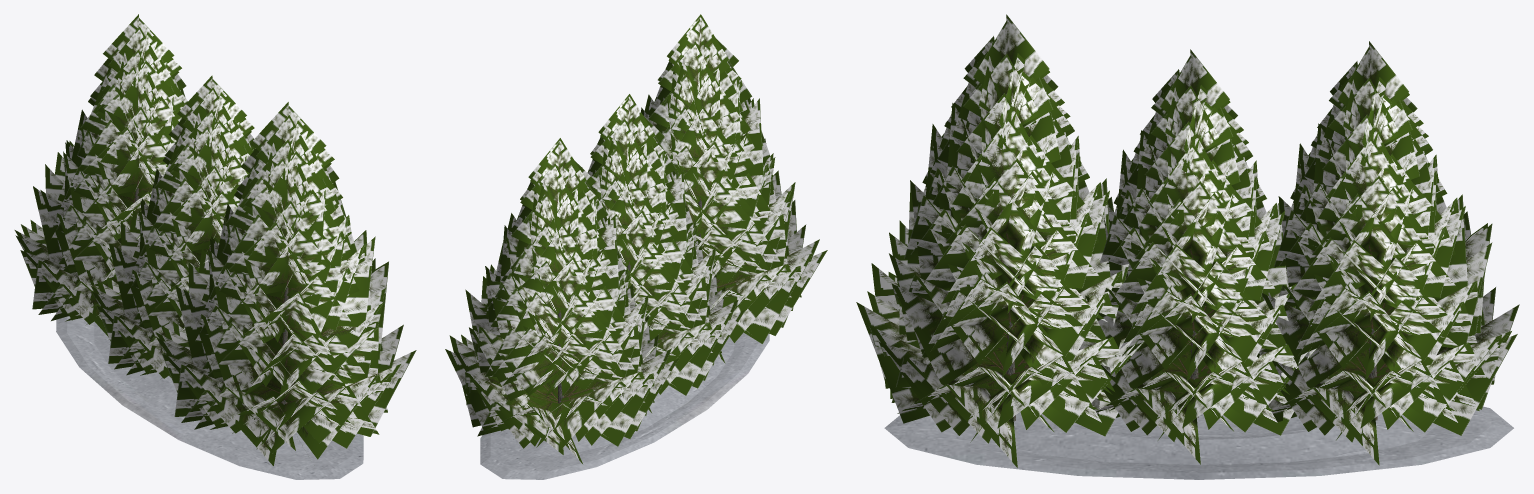
Rendered from track5Structure2.glb.
3 views of the same model, side by side, from view 1: azimuth 30°, elevation 25°; view 2: azimuth 150°, elevation 25°; view 3: azimuth 270°, elevation 25° (orthographic). The views are drawn at different scales.
Visible parts, largest first — view 1: fir.005; view 2: fir.005; view 3: fir.005.
Part boxes in pixels (box(x1,y1,x2,y2)): fir.005: box(14, 14, 416, 479); fir.005: box(445, 14, 827, 479); fir.005: box(856, 14, 1519, 479).
Size of the model in its own units: 5.01 by 7.44 by 10.78.
Materials: 3 (3 with a texture image).
